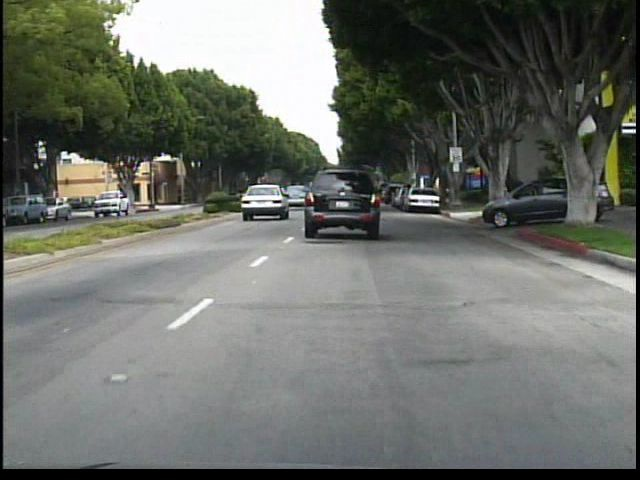person: (490, 169, 509, 210)
